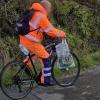bicycles: (0, 36, 81, 99)
